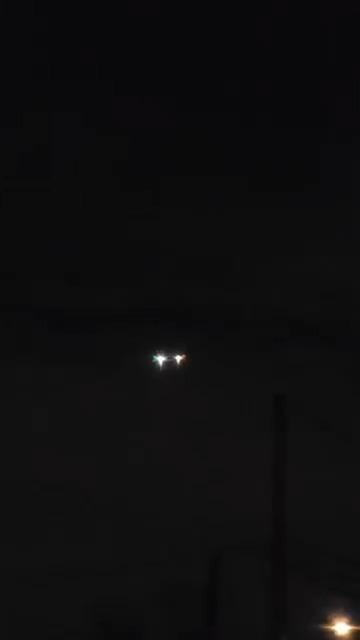Plane: (149, 339, 200, 375)
